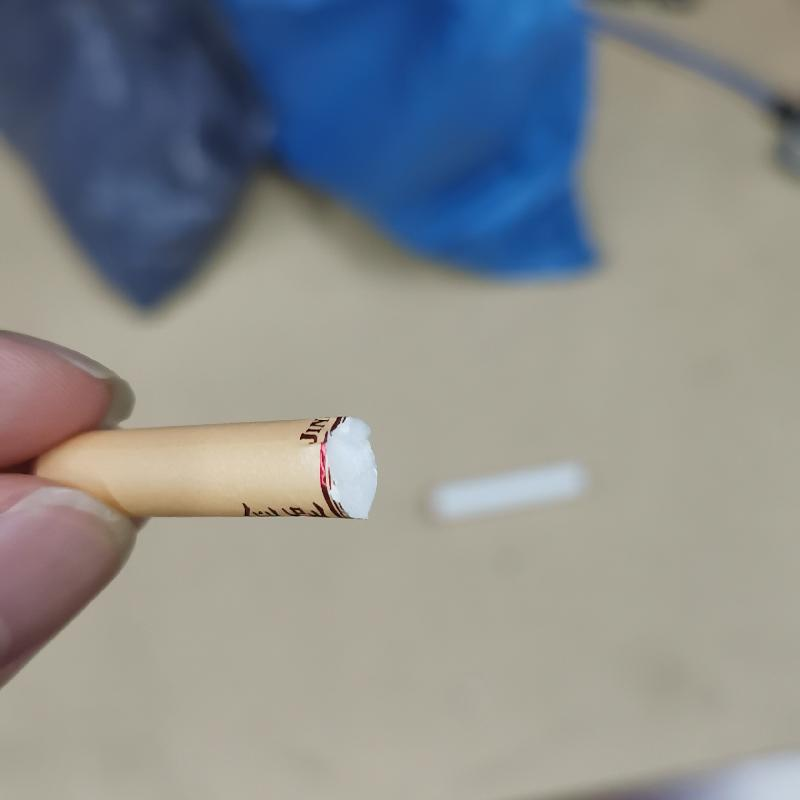cigarette: (29, 411, 385, 529)
